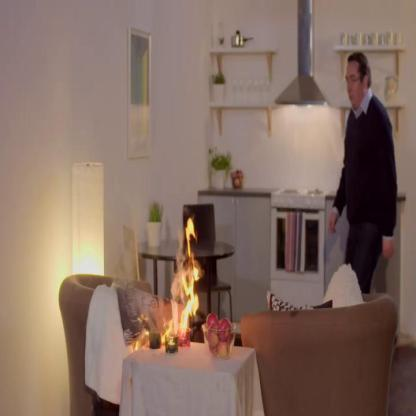fire: (178, 216, 203, 331)
